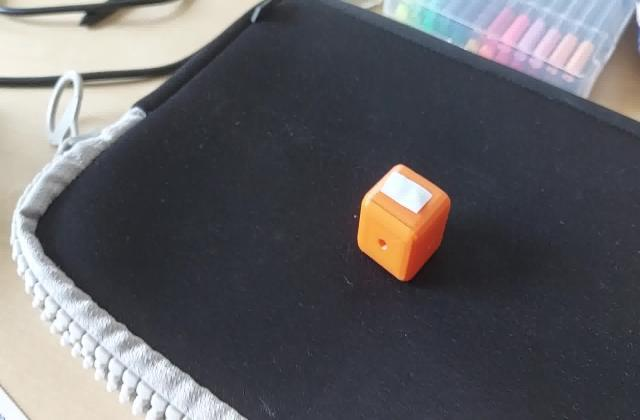sticker: (350, 160, 453, 285)
white: (388, 181, 436, 214)
